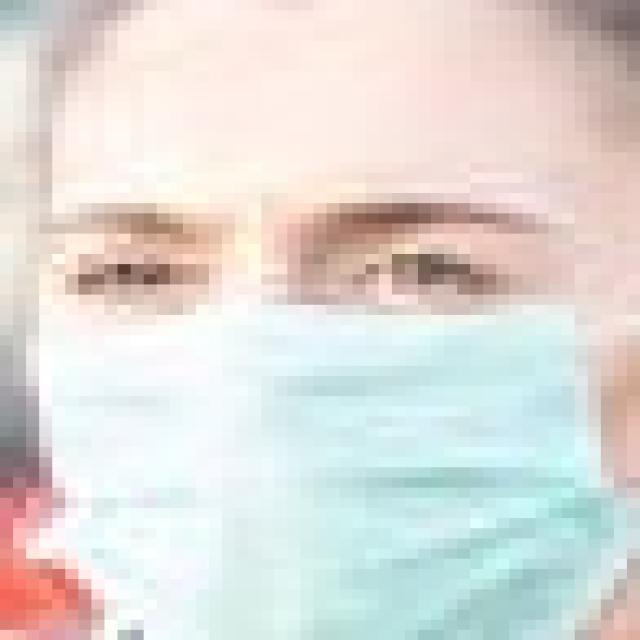Anxiety: (40, 0, 627, 630)
